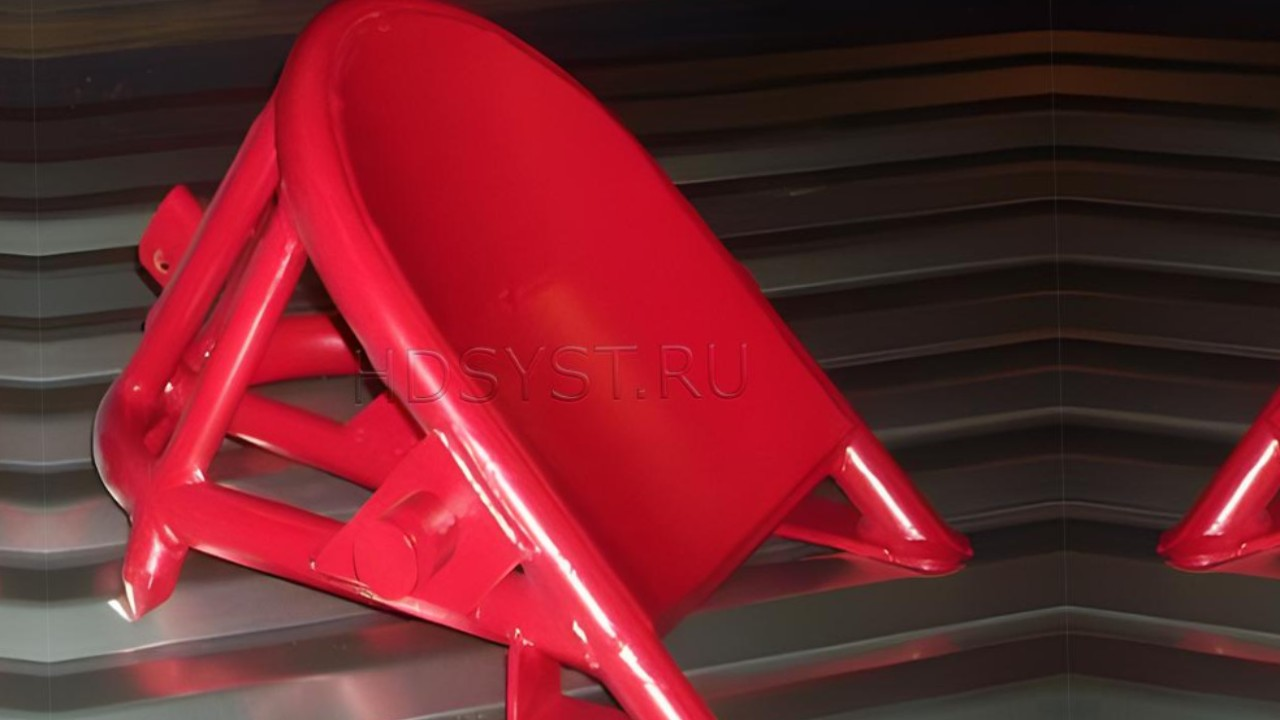chock: (48, 0, 988, 720)
